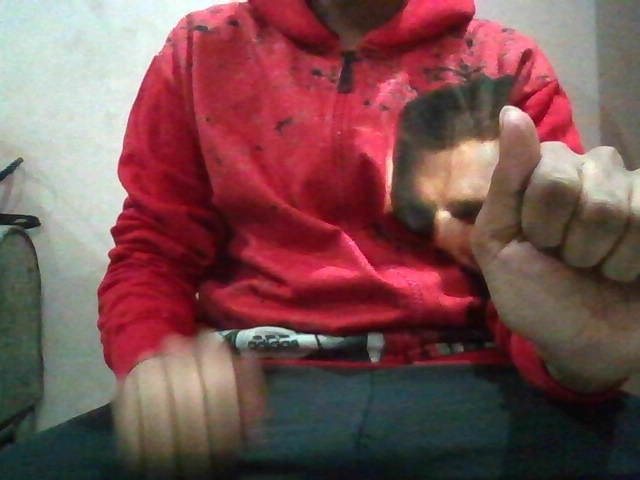A: (467, 91, 640, 390)
